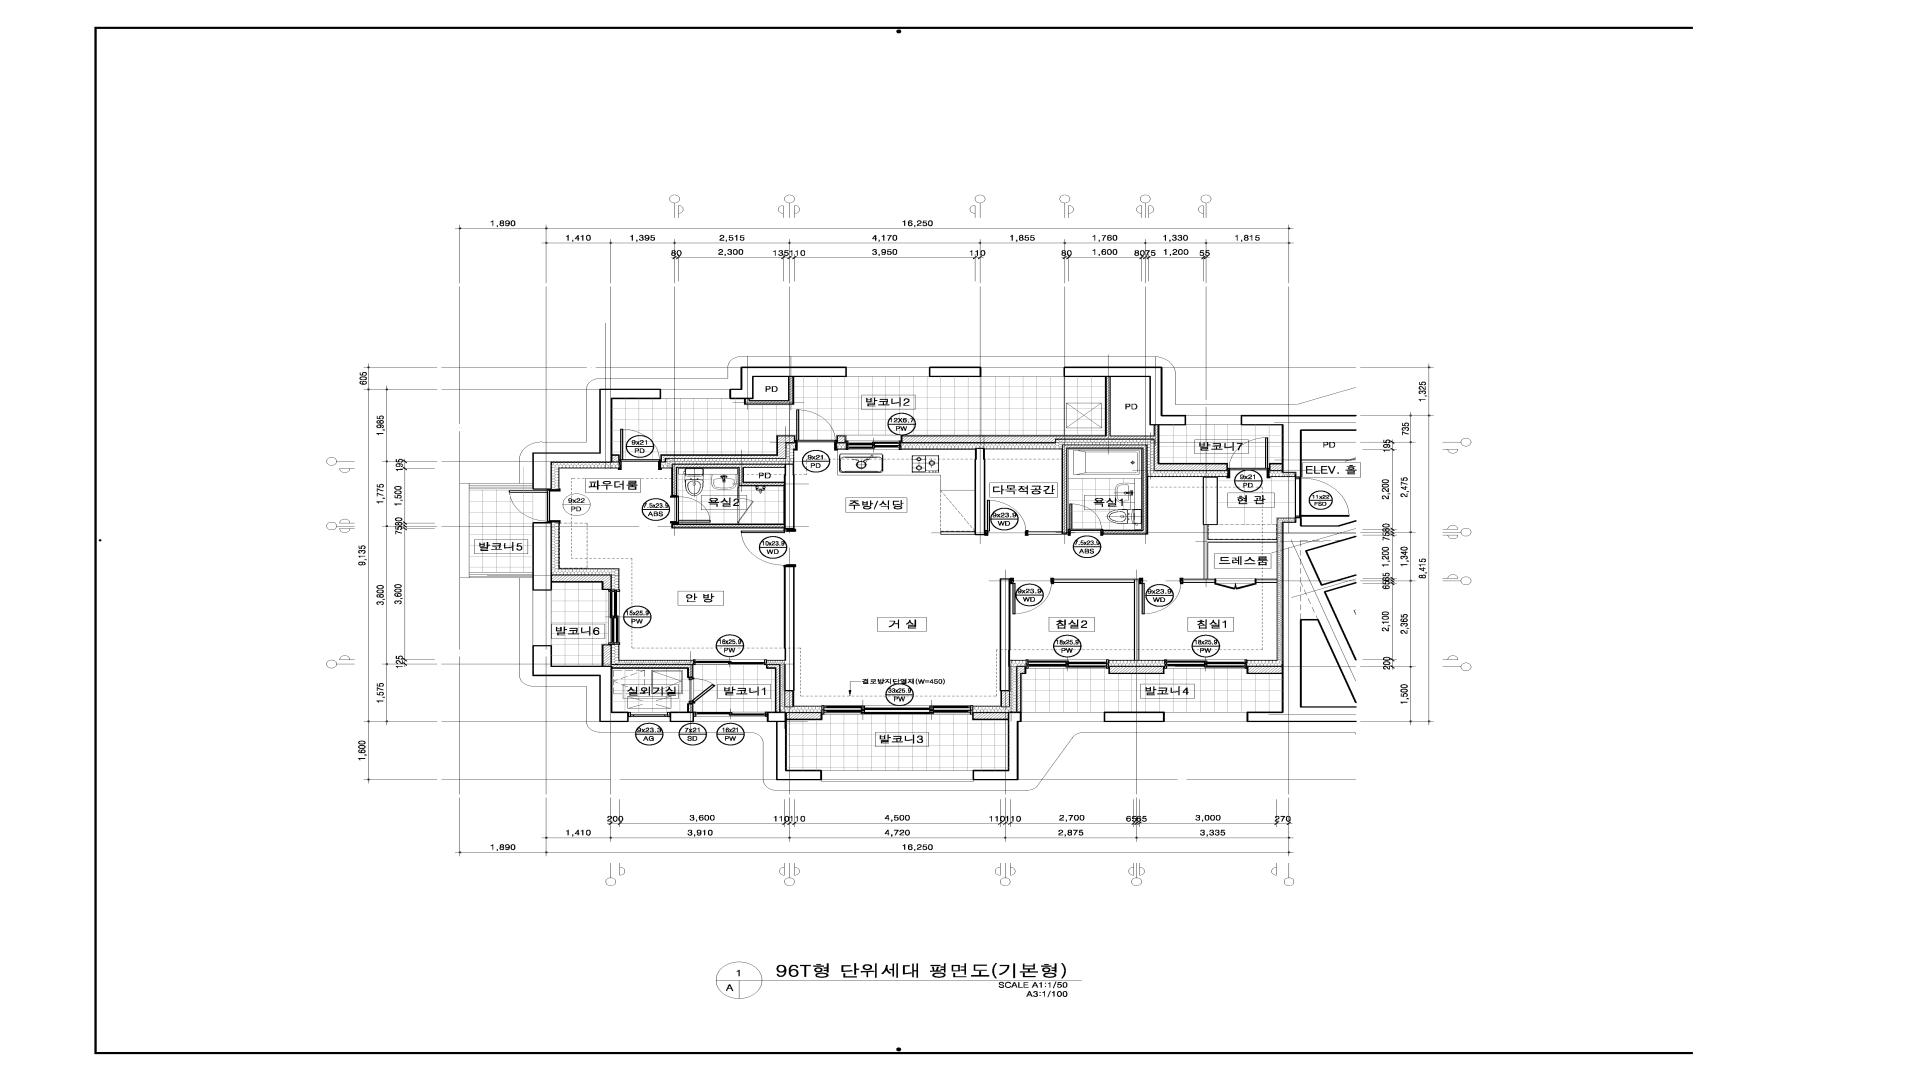door: (1295, 477, 1349, 517), (795, 409, 836, 450), (509, 489, 559, 522), (620, 429, 661, 468), (1228, 438, 1269, 477), (1139, 579, 1183, 615), (1010, 579, 1054, 615), (985, 500, 1029, 534), (1067, 504, 1104, 534), (671, 496, 711, 524), (688, 678, 716, 703), (1215, 579, 1257, 589), (737, 498, 753, 524)
wall: (901, 377, 1228, 469), (1246, 517, 1357, 723), (533, 389, 661, 489), (1062, 444, 1149, 534), (533, 645, 629, 723), (1063, 367, 1187, 426), (1241, 415, 1357, 477), (1183, 525, 1276, 583), (729, 367, 847, 400), (661, 435, 795, 463), (671, 464, 785, 496), (973, 712, 1022, 781), (775, 721, 822, 781), (783, 567, 795, 691), (744, 377, 794, 405), (533, 522, 553, 591), (1000, 579, 1010, 691), (611, 665, 694, 678), (975, 448, 985, 535), (553, 575, 611, 589), (1203, 477, 1218, 525), (785, 464, 795, 529), (1104, 712, 1164, 723), (766, 665, 779, 712), (671, 524, 785, 529), (928, 367, 981, 377), (1108, 666, 1164, 674), (1017, 666, 1026, 712), (1134, 579, 1139, 659), (1054, 579, 1134, 583), (972, 712, 1007, 720), (1246, 666, 1282, 674), (670, 712, 694, 723), (787, 713, 823, 720), (766, 712, 787, 721), (601, 645, 611, 666), (785, 691, 794, 707), (1001, 691, 1010, 707), (1269, 463, 1282, 471), (940, 531, 975, 534), (1029, 531, 1062, 534), (1257, 579, 1276, 583), (612, 454, 620, 463), (836, 435, 845, 442), (687, 703, 692, 712), (737, 487, 740, 498)
window: (822, 770, 973, 782), (823, 705, 972, 715), (533, 591, 553, 645), (1022, 712, 1104, 723), (1164, 712, 1246, 723), (847, 367, 928, 377), (981, 367, 1063, 377), (845, 435, 901, 450), (1026, 659, 1109, 669), (694, 712, 766, 723), (1164, 659, 1246, 669), (661, 389, 729, 400), (608, 589, 620, 645), (1185, 415, 1241, 426), (629, 712, 670, 723), (692, 659, 766, 665)
